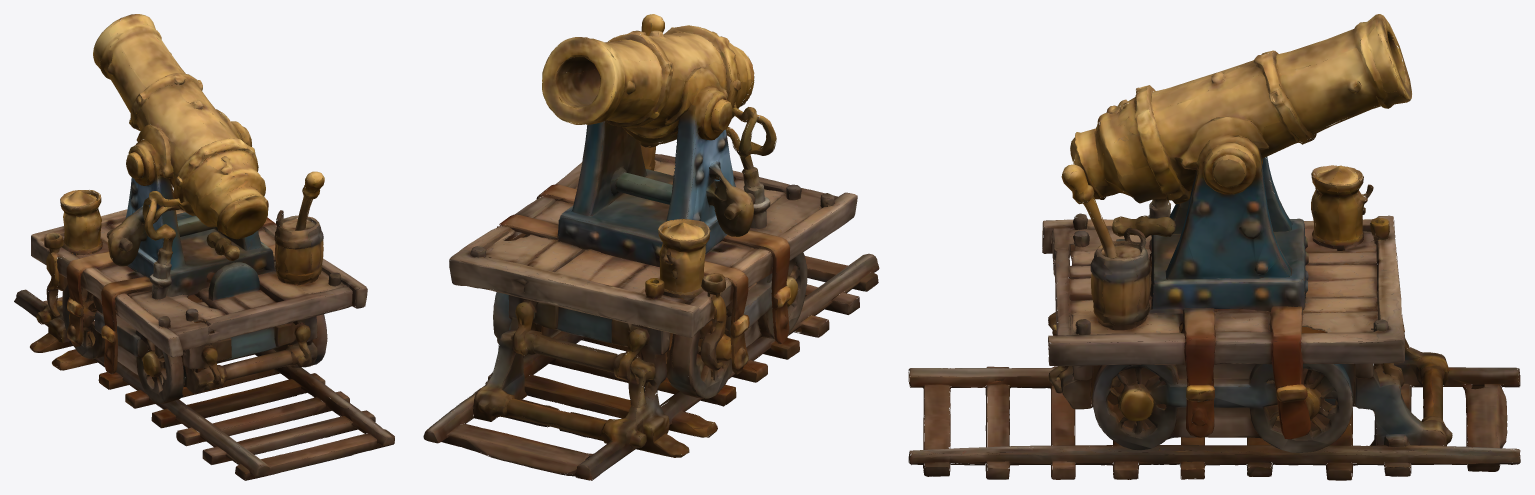
The model's file is rooftop_cannon.glb.
3 views of the same model, side by side, from view 1: azimuth 30°, elevation 25°; view 2: azimuth 150°, elevation 25°; view 3: azimuth 270°, elevation 25° (orthographic). The views are drawn at different scales.
Parts seen in each view (by area): view 1: head, gun, base; view 2: head, gun, base; view 3: head, gun, base.
Part boxes in pixels (x1,y1,x2,y2): head: [31, 126, 367, 402]; gun: [92, 14, 291, 254]; base: [14, 289, 394, 480]; head: [449, 14, 857, 426]; gun: [542, 25, 754, 229]; base: [423, 253, 879, 480]; head: [1042, 117, 1442, 449]; gun: [1070, 14, 1411, 274]; base: [908, 352, 1520, 480].
Size of the model in its own units: 0.9657 by 1.4 by 1.91.
1 material, 1 textured.
